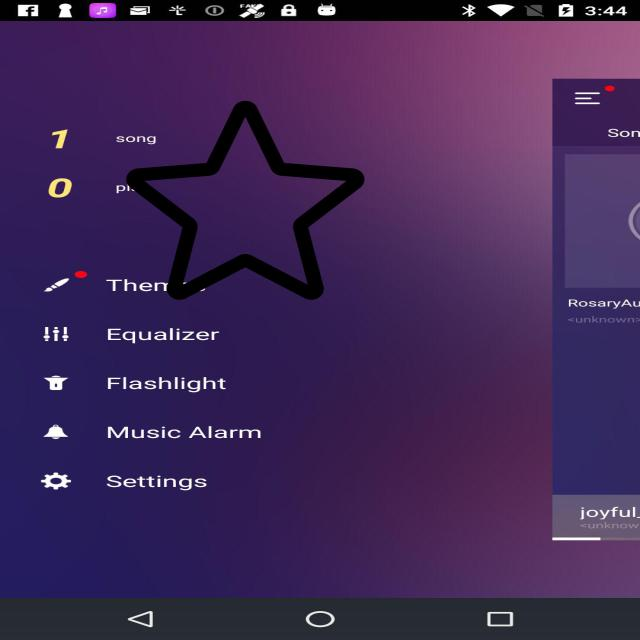forced continuity: (126, 96, 364, 304)
